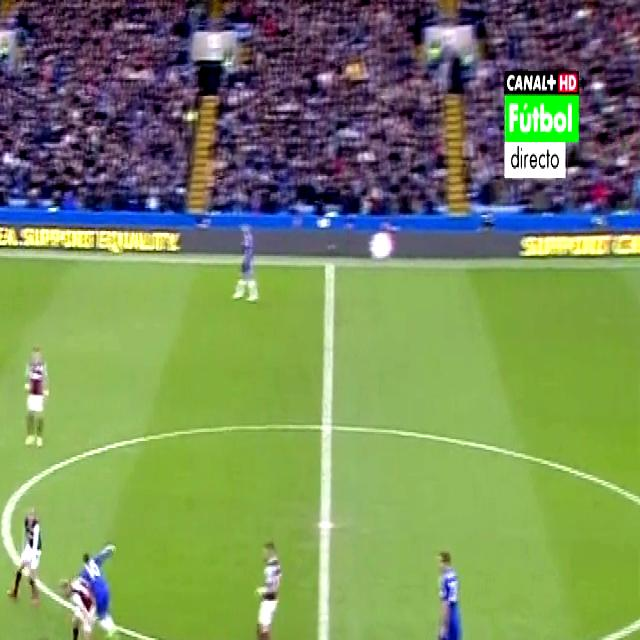referee: (21, 627, 66, 640)
soccer-player: (64, 528, 124, 640), (426, 530, 472, 640), (9, 493, 50, 616), (16, 328, 54, 458), (244, 526, 286, 640), (231, 213, 263, 311)
